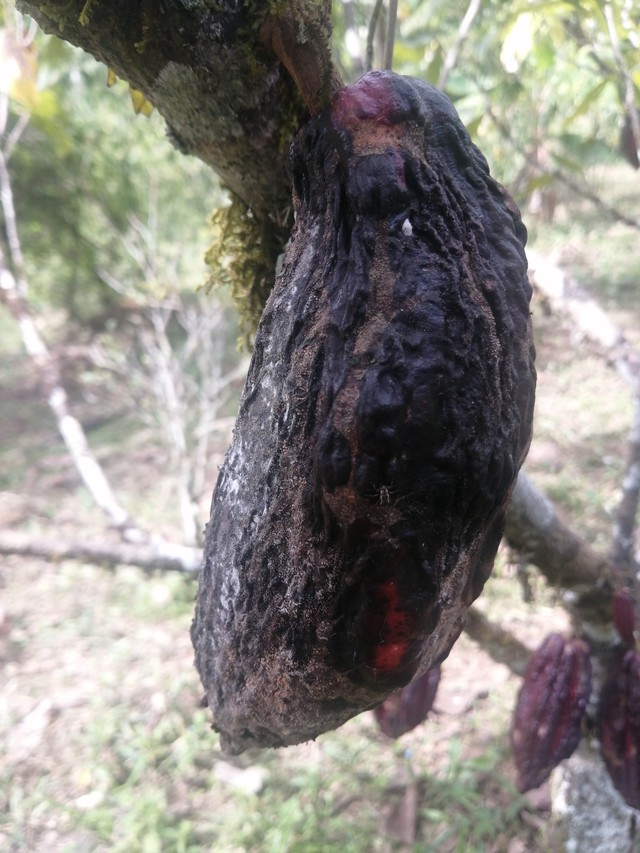moniliophthora roreri: (157, 52, 552, 765)
